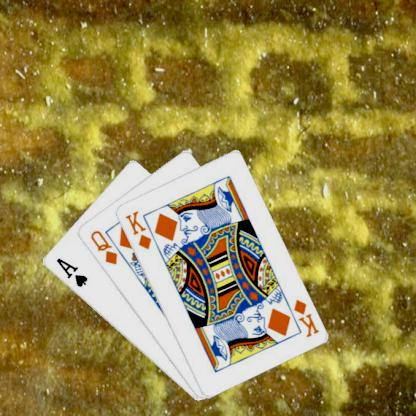AS: (53, 255, 88, 289)
KD: (122, 208, 153, 251), (290, 296, 320, 339)
QD: (87, 227, 119, 266)
